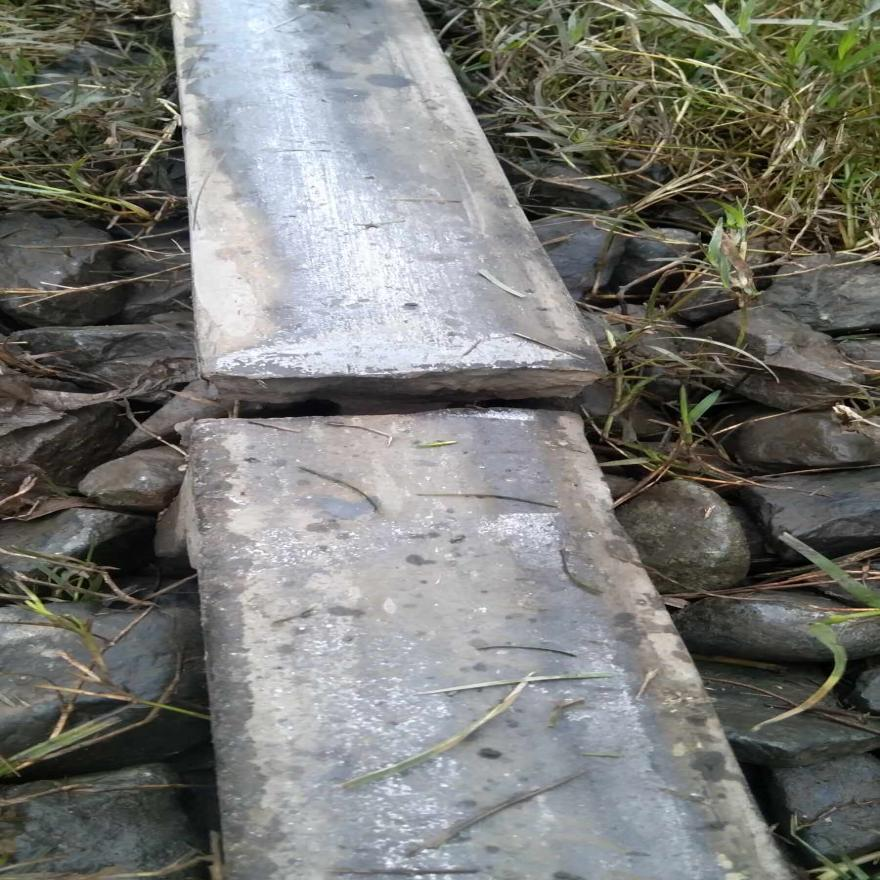railway-gap: (115, 277, 706, 522)
